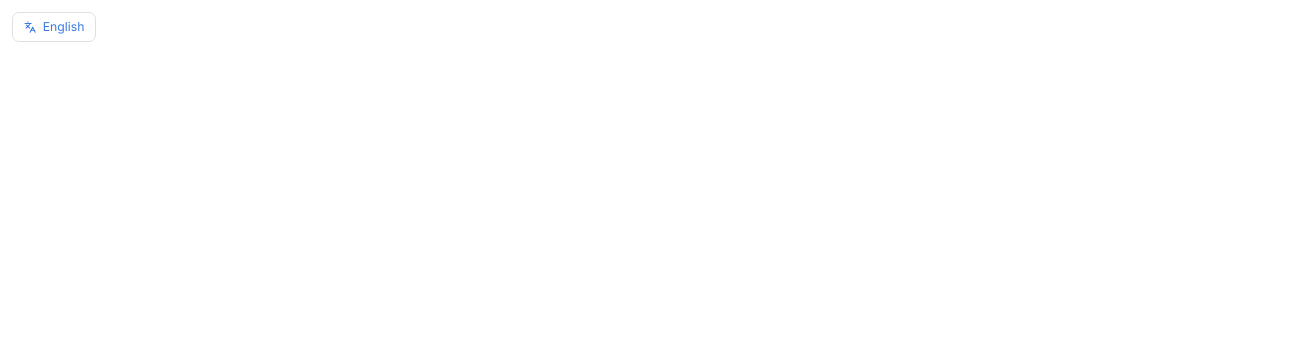
Scenario: <LanguageSwitcher /> › opens the dropdown and lists all five languages
The image size is (1292, 356).
Click the button with aria-label "change language".
click(54, 27)  # box [12,12,96,42]
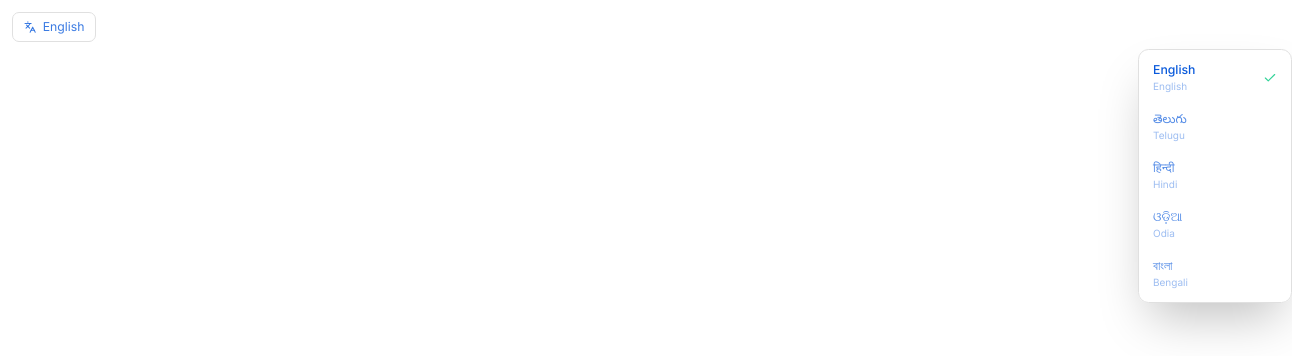
Check: the text "తెలుగు" is shown, box [1153,110,1187,127]
Check: the text "हिन्दी" is shown, box [1153,158,1174,176]
Check: the text "ଓଡ଼ିଆ" is shown, box [1153,208,1182,225]
